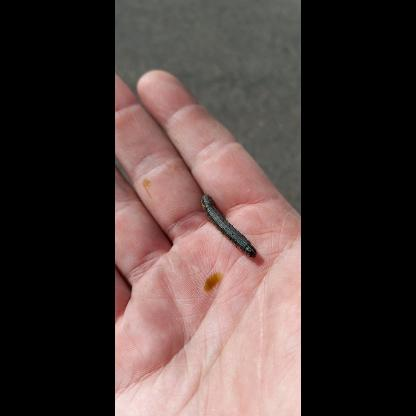Fall Armyworm Larvae: (199, 192, 259, 260)
